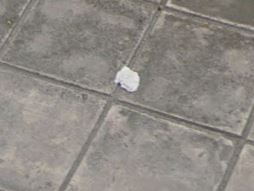trash: (111, 56, 148, 96)
